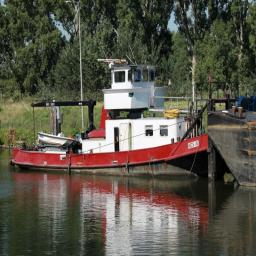tugboat: (9, 58, 246, 185)
